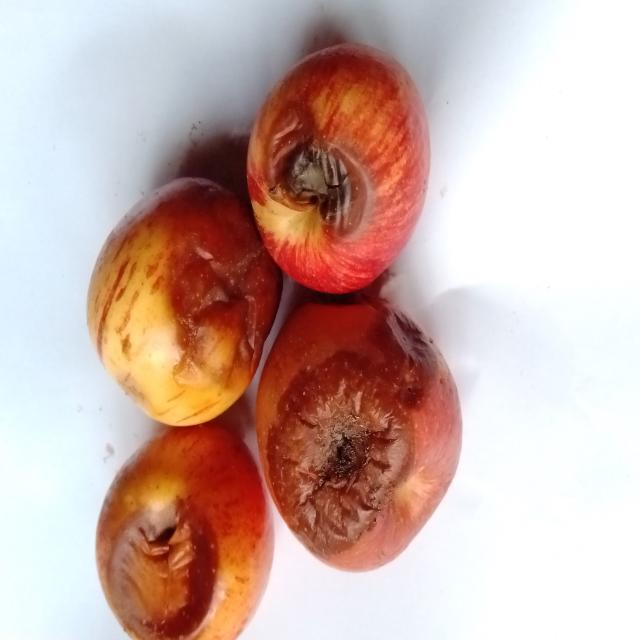apple: (257, 300, 461, 570), (88, 179, 281, 425), (248, 44, 430, 293), (97, 425, 273, 639)
